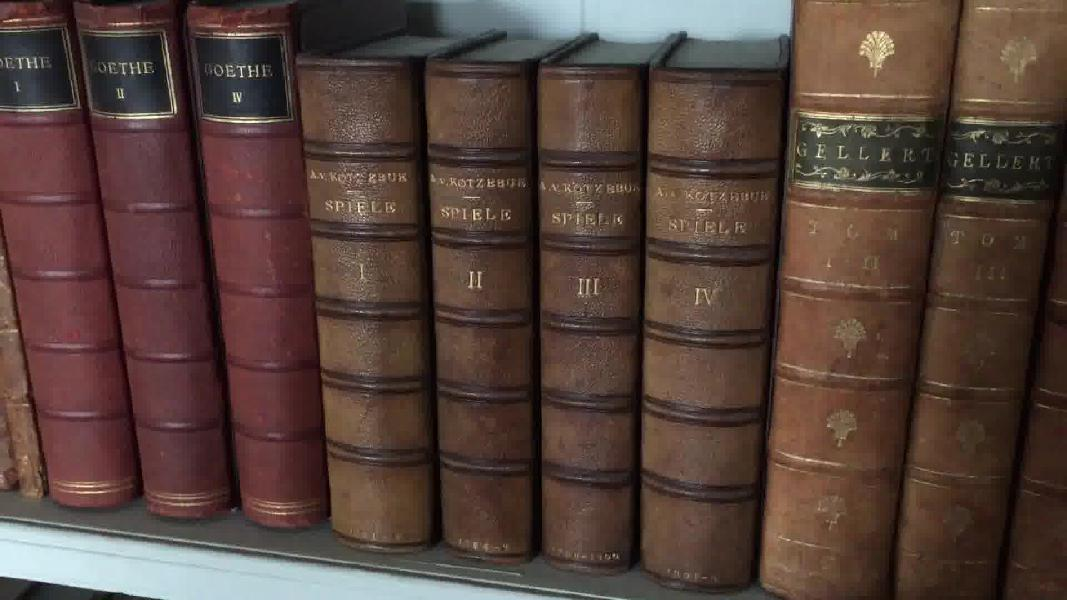Aa6-11_13: (4, 4, 331, 528)
Aa6-14_17: (292, 40, 775, 588)
